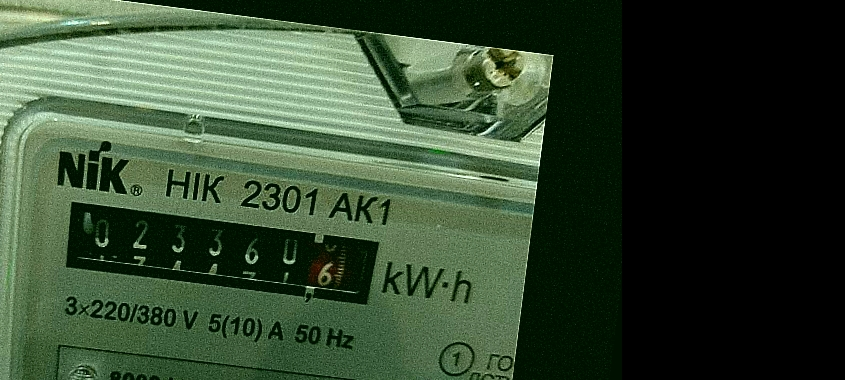0: (89, 214, 114, 249), (279, 234, 300, 267)
2: (127, 216, 154, 252)
3: (165, 221, 190, 255), (204, 224, 226, 258)
6: (239, 232, 263, 266), (312, 256, 336, 288)
screen: (42, 182, 394, 322)
